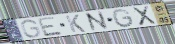E: (36, 16, 65, 37)
G: (112, 8, 136, 29), (21, 19, 43, 39)
K: (64, 13, 88, 33)
N: (83, 9, 111, 33)
X: (131, 5, 158, 27)
